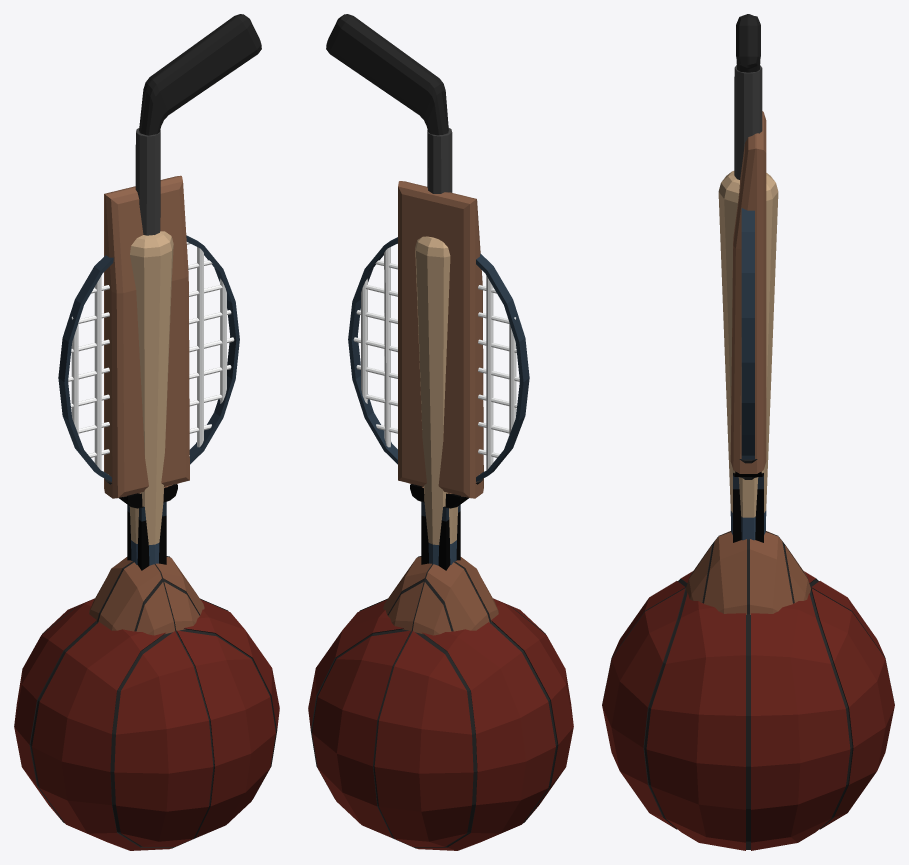
The model's file is Items.fbx.
3 views of the same model, side by side, from view 1: azimuth 30°, elevation 25°; view 2: azimuth 150°, elevation 25°; view 3: azimuth 270°, elevation 25° (orthographic). The views are drawn at different scales.
Visible parts, largest first — view 1: Basketball-Ball, Cricket-Bat, Tennis-Racket, Baseball-Bat, Hockey-Stick, American-Ball; view 2: Basketball-Ball, Cricket-Bat, Tennis-Racket, Baseball-Bat, Hockey-Stick, American-Ball; view 3: Basketball-Ball, Cricket-Bat, American-Ball, Baseball-Bat, Hockey-Stick, Tennis-Racket.
Part boxes in pixels (x1=…): Basketball-Ball: x1=14, y1=598, x2=279, y2=850; Cricket-Bat: x1=104, y1=175, x2=189, y2=570; Tennis-Racket: x1=58, y1=235, x2=239, y2=497; Baseball-Bat: x1=129, y1=231, x2=173, y2=565; Hockey-Stick: x1=135, y1=14, x2=261, y2=235; American-Ball: x1=89, y1=556, x2=204, y2=635; Basketball-Ball: x1=308, y1=598, x2=573, y2=850; Cricket-Bat: x1=398, y1=181, x2=483, y2=570; Tennis-Racket: x1=348, y1=237, x2=529, y2=497; Baseball-Bat: x1=415, y1=236, x2=458, y2=565; Hockey-Stick: x1=326, y1=14, x2=452, y2=193; American-Ball: x1=383, y1=556, x2=498, y2=635; Basketball-Ball: x1=602, y1=571, x2=894, y2=850; Cricket-Bat: x1=730, y1=111, x2=766, y2=542; American-Ball: x1=686, y1=531, x2=810, y2=614; Baseball-Bat: x1=718, y1=171, x2=778, y2=540; Hockey-Stick: x1=734, y1=14, x2=762, y2=179; Tennis-Racket: x1=739, y1=208, x2=757, y2=479.
Size of the model in its own units: 0.3881 by 1.28 by 0.3889.
